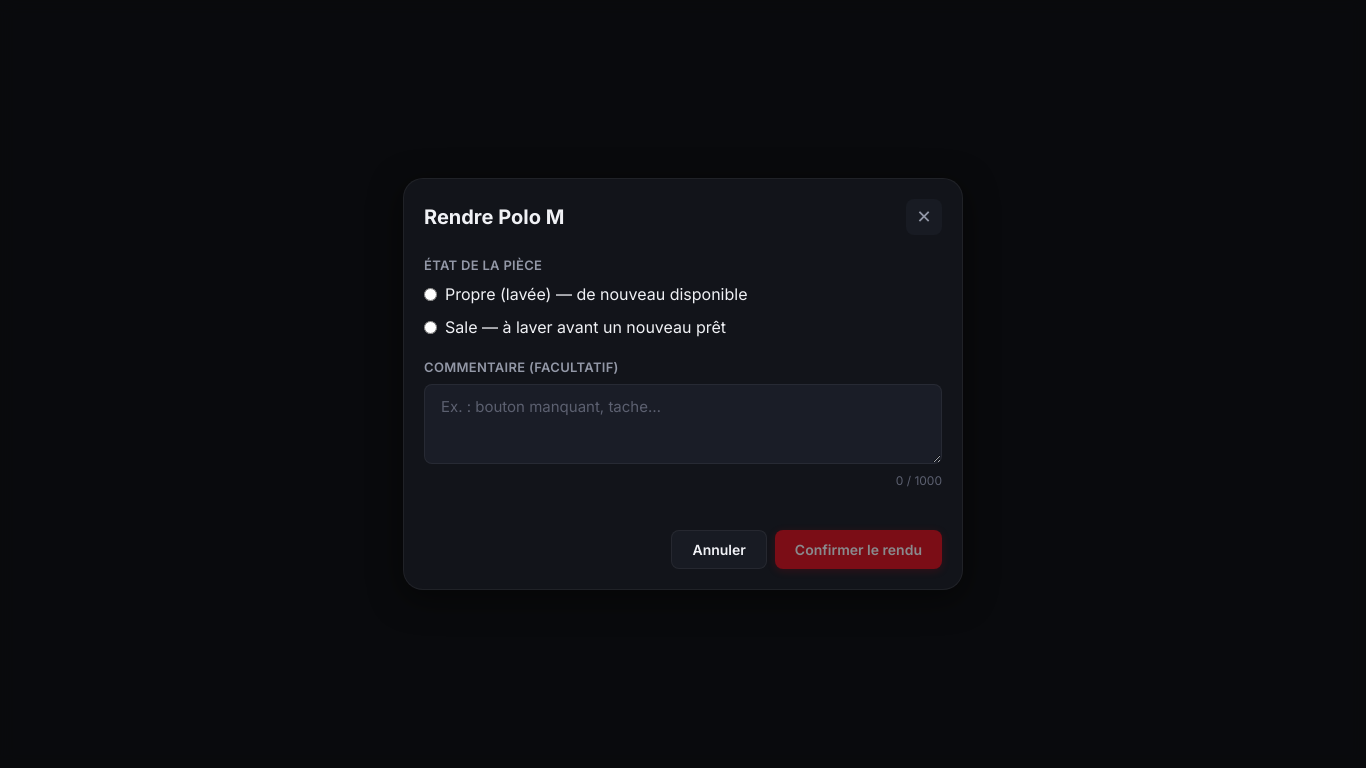
Test: ReturnUniformModal › affiche l'erreur serveur inline sans fermer
Click the radio button labelled "Propre (lavée) — de nouveau disponible".
click(430, 294)  # box [424,288,437,301]
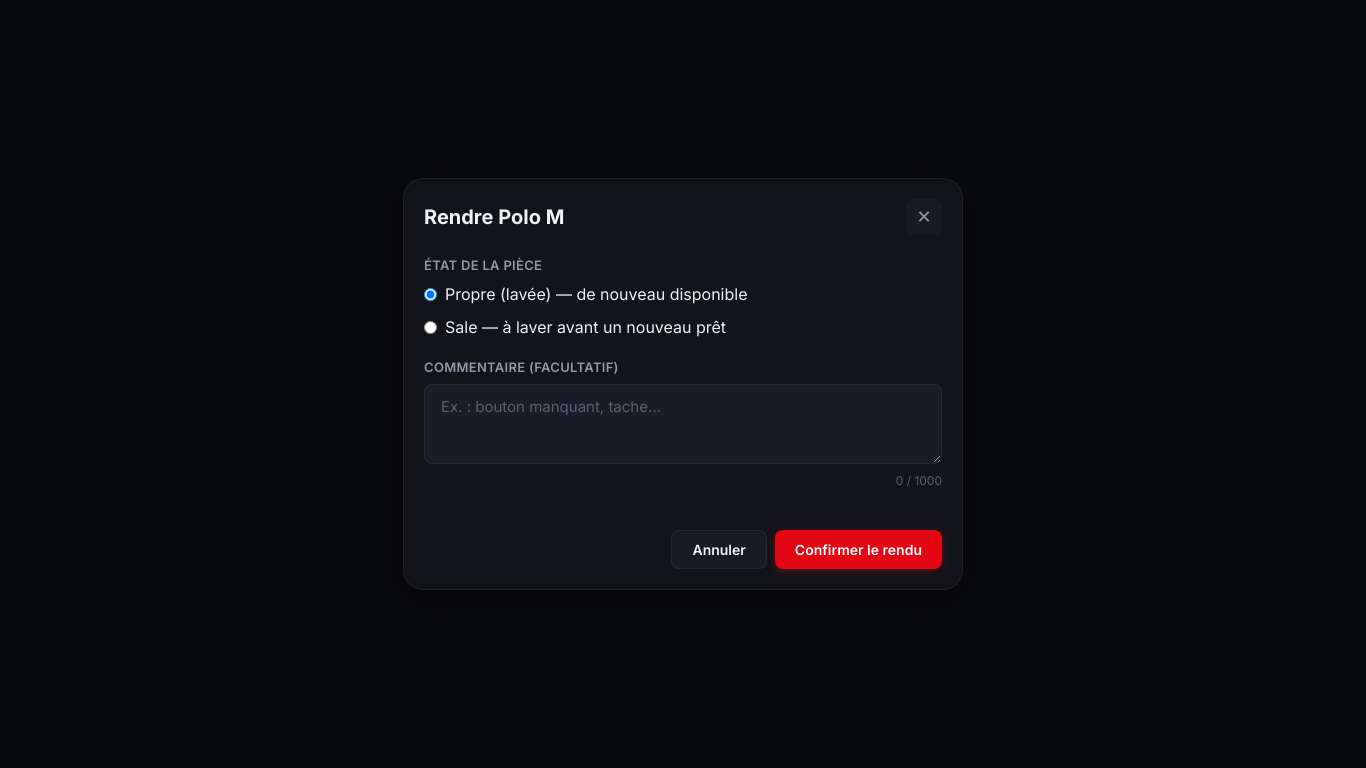
Click the button "Confirmer le rendu".
click(858, 550)  # box [775,530,942,569]
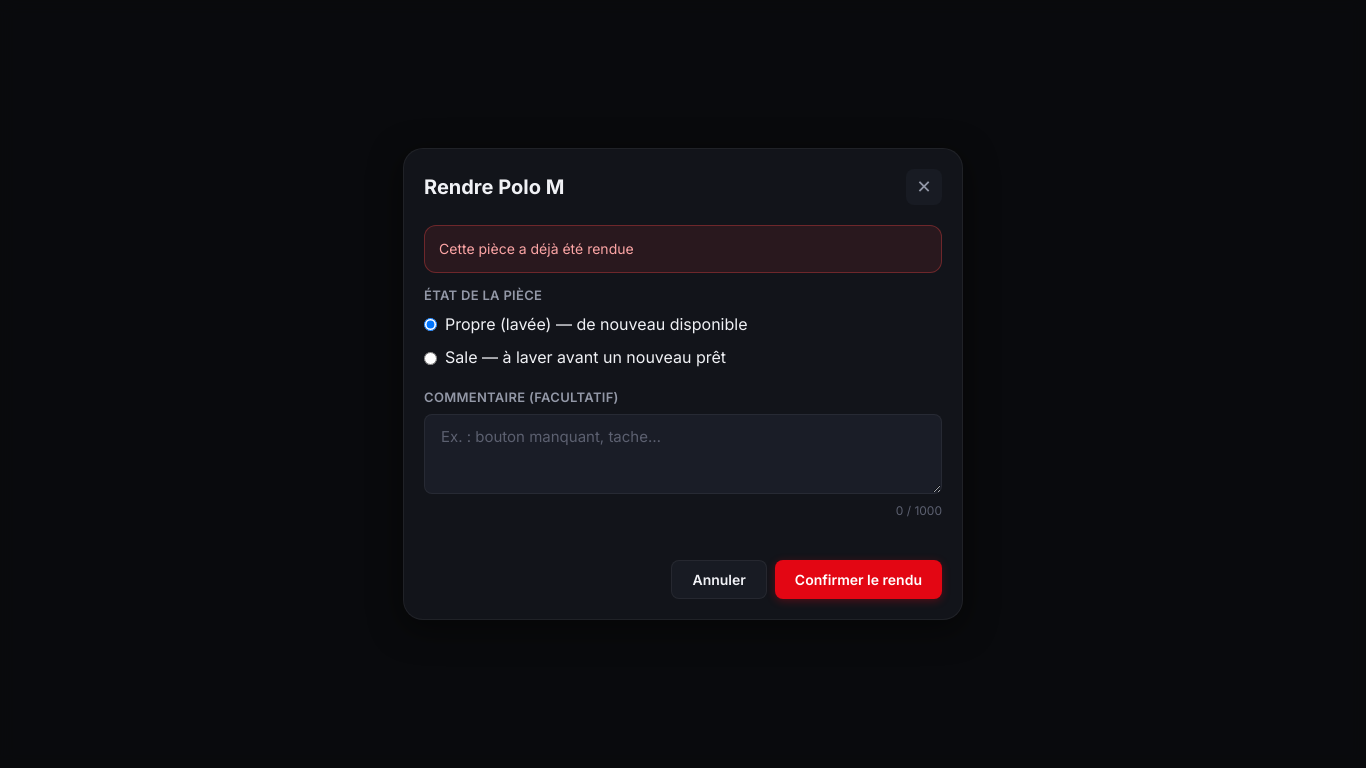
Check: the message shows "déjà été rendue", box [439,240,634,256]
